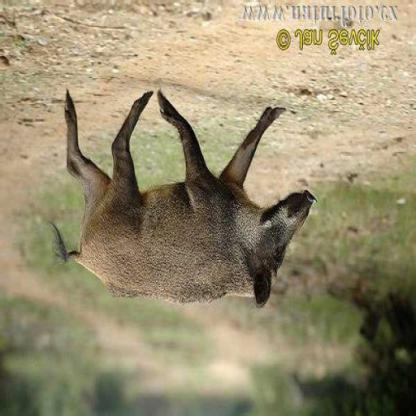boar: (52, 88, 332, 323)
